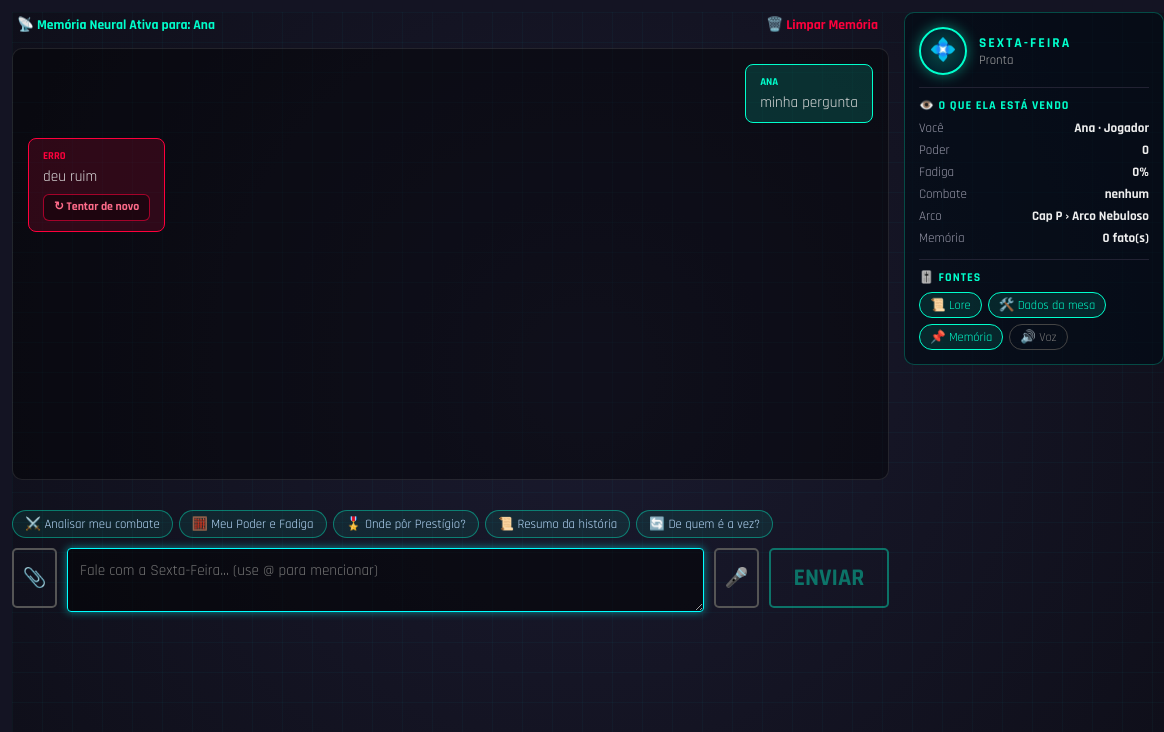
it: AIChat - mensagens › botao tentar de novo › clicar refaz o pedido e remove o erro sem duplicar a pergunta
What coordinates should you click on to do the following:
click the button "↻ Tentar de novo"
I would click on:
 (97, 207)
Its box is [43,194,150,221].
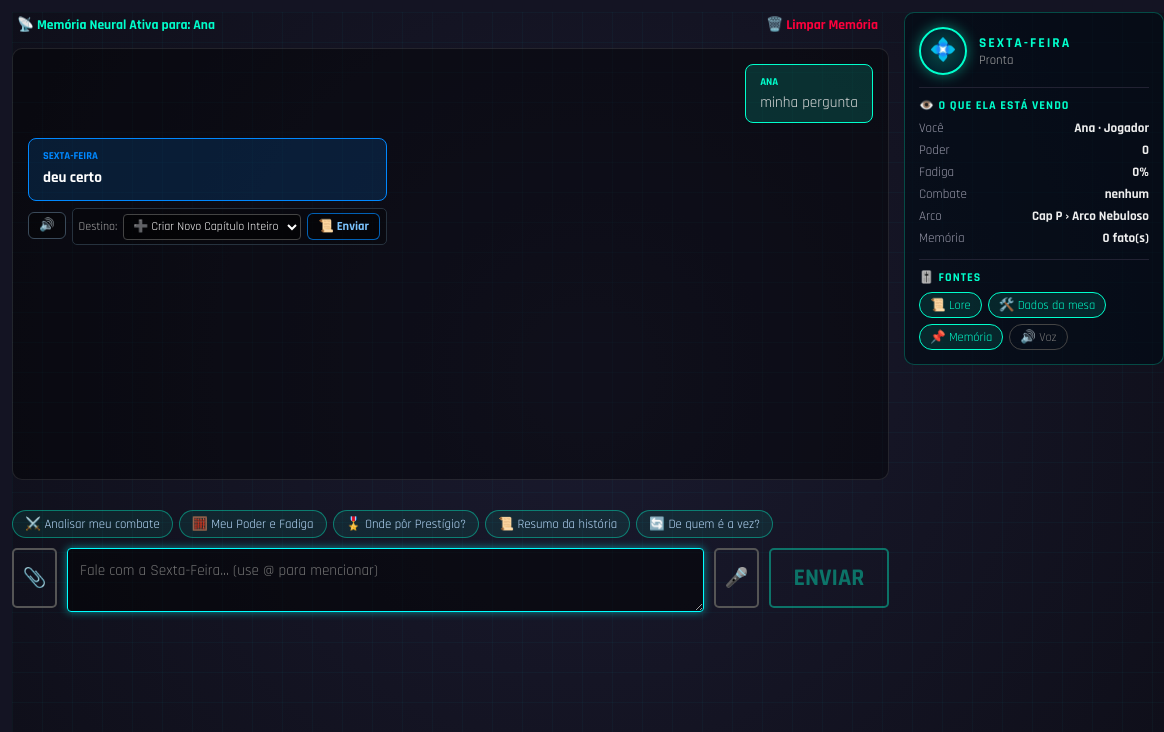
Expected: the text "minha pergunta" is shown once, [760,93,858,112]
Expected: the element with class "sexta-msg-erro" is gone
Expected: the text "deu certo" is shown, [43,168,102,187]
